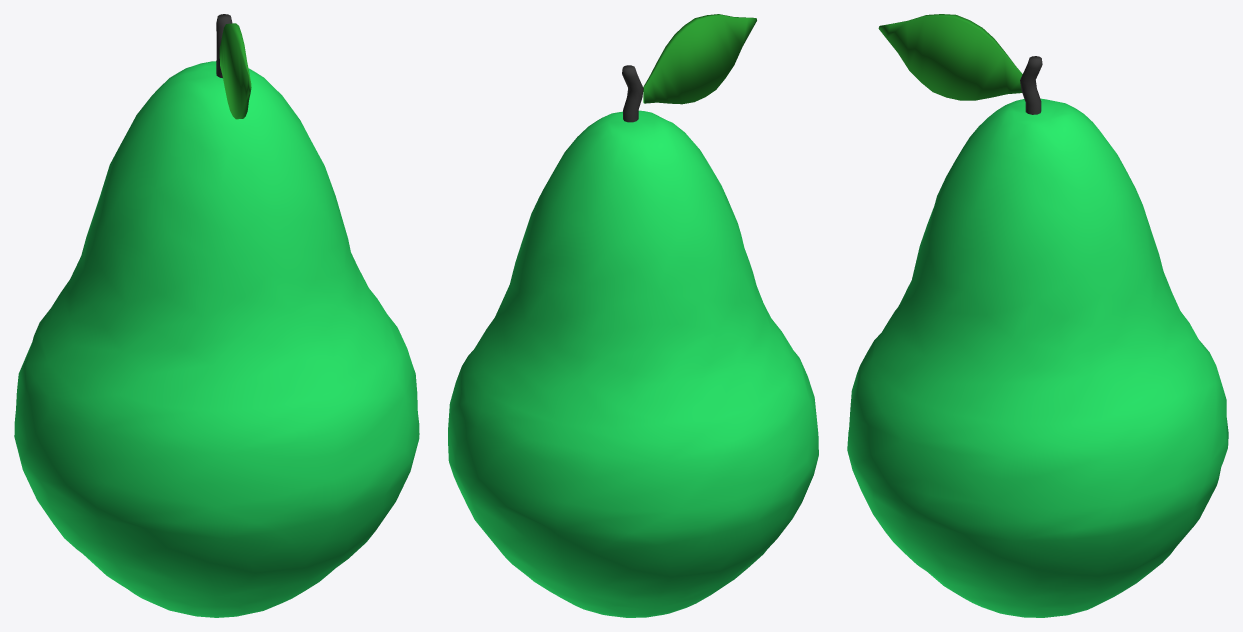
Rendered from Pears1.fbx.
3 renders of one model, left to right at view 1: azimuth 30°, elevation 25°; view 2: azimuth 150°, elevation 25°; view 3: azimuth 270°, elevation 25°, orthographic. The views are drawn at different scales.
Visible parts, largest first — view 1: Pears1; view 2: Pears1; view 3: Pears1.
Boxes of the visible parts, <box> form: Pears1: <box>14,14,419,617</box>; Pears1: <box>448,14,818,617</box>; Pears1: <box>847,14,1228,617</box>.
Size of the model in its own units: 0.7433 by 0.7454 by 1.23.
